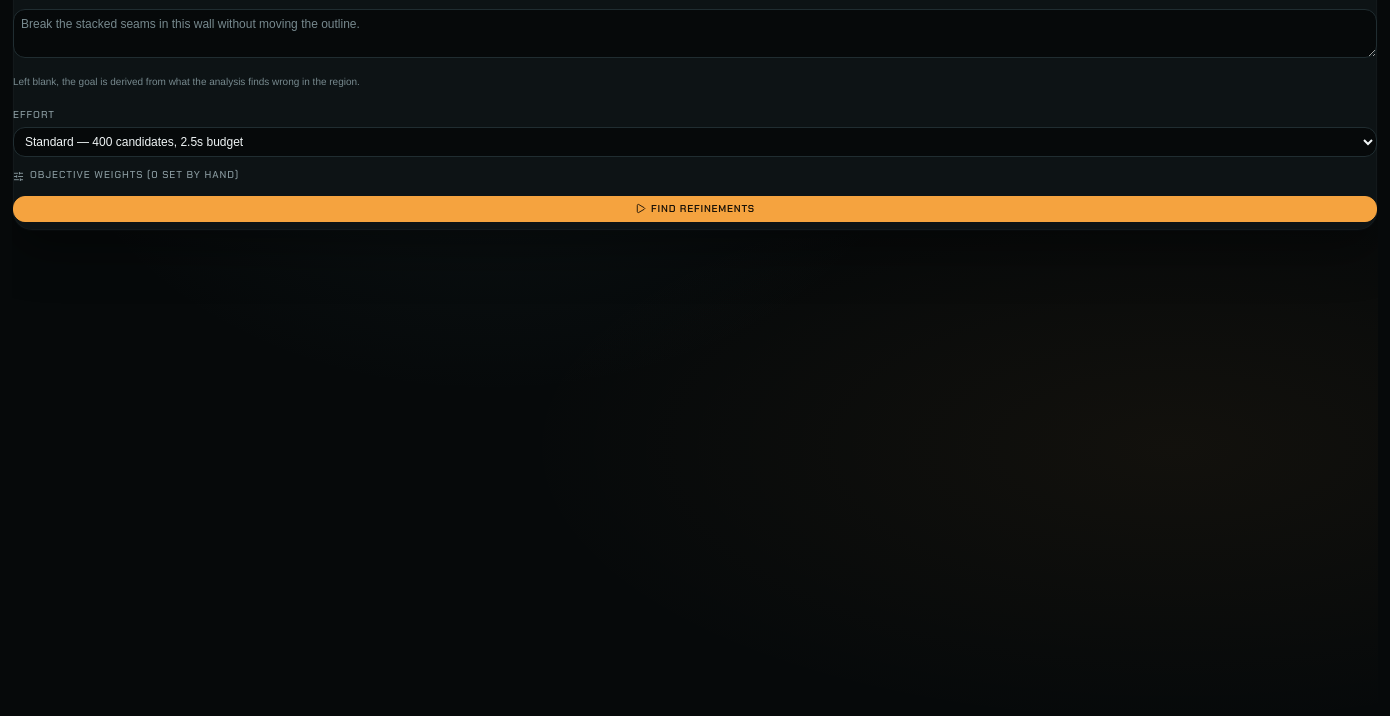
Test: proposals › shows the complete metric vector for the proposal under review
Click the button "Find refinements" at (695, 209), box [13, 196, 1377, 222]
(page scrolled)
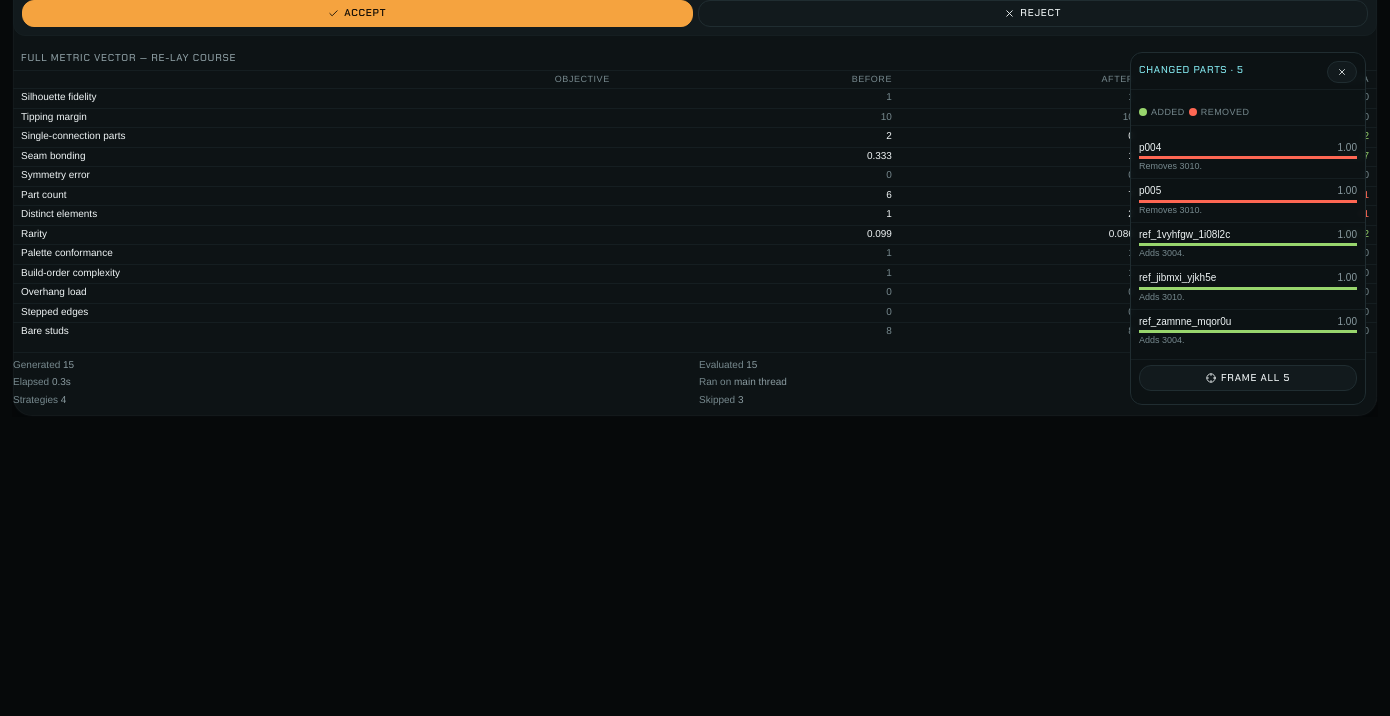
Now the text "Full metric vector — Re-lay course" is shown, box [21, 52, 236, 65]
Now the column heading "Silhouette fidelity" is shown, box [13, 89, 618, 108]
Now the column heading "Tipping margin" is shown, box [13, 108, 618, 128]
